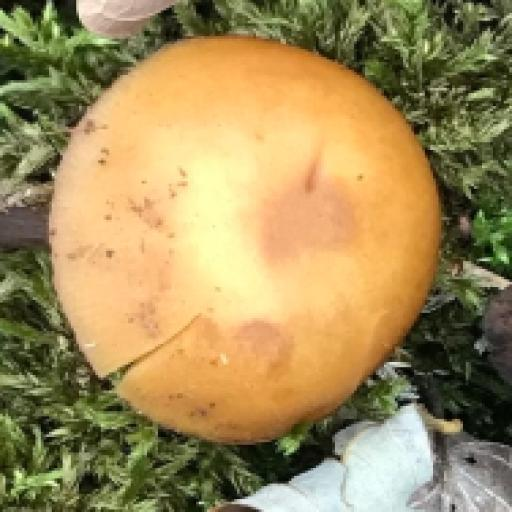mushroom: (36, 24, 443, 464)
